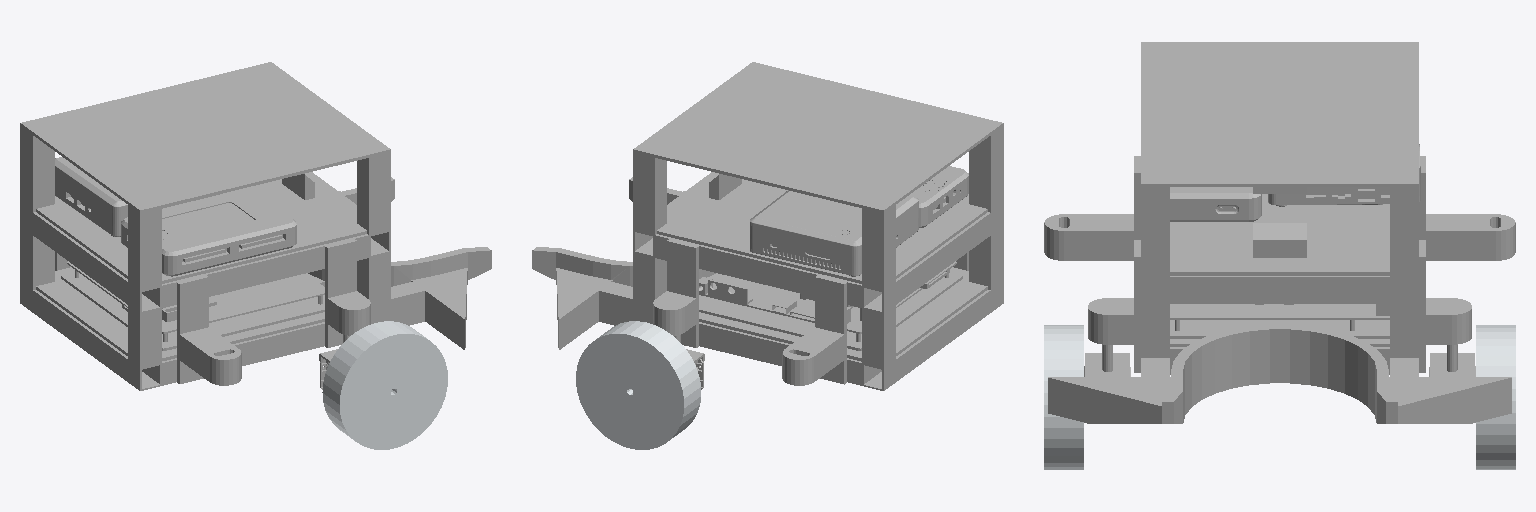
URDF robot description (lide):
<?xml version="1.0" encoding="utf-8"?>
<!-- This URDF was automatically created by SolidWorks to URDF Exporter! Originally created by [author] ([email redacted]) 
     Commit Version: 1.5.1-0-g916b5db  Build Version: 1.5.7152.31018
     For more information, please see http://wiki.ros.org/sw_urdf_exporter -->
<robot
  name="lide">
  <link
    name="base_link">
    <inertial>
      <origin
        xyz="-0.0905333829667025 0.0013857287387873 0.0489326043531981"
        rpy="0 0 0" />
      <mass
        value="3.02031254835025" />
      <inertia
        ixx="0.00719766499623467"
        ixy="-5.47577884732339E-07"
        ixz="-7.36488484972432E-06"
        iyy="0.00561397920303444"
        iyz="-3.00885497227234E-07"
        izz="0.0121022766598984" />
    </inertial>
    <visual>
      <origin
        xyz="0 0 0"
        rpy="0 0 0" />
      <geometry>
        <mesh
          filename="package://lide/meshes/base_link.STL" />
      </geometry>
      <material
        name="">
        <color
          rgba="0.752941176470588 0.752941176470588 0.752941176470588 1" />
      </material>
    </visual>
    <collision>
      <origin
        xyz="0 0 0"
        rpy="0 0 0" />
      <geometry>
        <mesh
          filename="package://lide/meshes/base_link.STL" />
      </geometry>
    </collision>
  </link>
  <link
    name="LFS">
    <inertial>
      <origin
        xyz="0.0128104268709419 0.00830943309140335 0.00297622851896686"
        rpy="0 0 0" />
      <mass
        value="0.0727928435161986" />
      <inertia
        ixx="2.20927876796312E-05"
        ixy="-1.64845302056334E-08"
        ixz="-1.56454773175217E-07"
        iyy="1.62632133784213E-05"
        iyz="2.96411876511052E-09"
        izz="1.80843397531752E-05" />
    </inertial>
    <visual>
      <origin
        xyz="0 0 0"
        rpy="0 0 0" />
      <geometry>
        <mesh
          filename="package://lide/meshes/LFS.STL" />
      </geometry>
      <material
        name="">
        <color
          rgba="0.752941176470588 0.752941176470588 0.752941176470588 1" />
      </material>
    </visual>
    <collision>
      <origin
        xyz="0 0 0"
        rpy="0 0 0" />
      <geometry>
        <mesh
          filename="package://lide/meshes/LFS.STL" />
      </geometry>
    </collision>
  </link>
  <joint
    name="LFS"
    type="fixed">
    <origin
      xyz="-0.021044 0.11715 -0.036503"
      rpy="1.5708 0 1.5708" />
    <parent
      link="base_link" />
    <child
      link="LFS" />
    <axis
      xyz="0 0 0" />
  </joint>
  <link
    name="LFW">
    <inertial>
      <origin
        xyz="-0.01775 -2.77555756156289E-17 4.25007251614318E-17"
        rpy="0 0 0" />
      <mass
        value="0.767080911081153" />
      <inertia
        ixx="0.00116426102407189"
        ixy="-8.87966691214985E-21"
        ixz="-5.07522269183661E-21"
        iyy="0.000639661580367032"
        iyz="9.48676900924816E-20"
        izz="0.000639661580367032" />
    </inertial>
    <visual>
      <origin
        xyz="0 0 0"
        rpy="0 0 0" />
      <geometry>
        <mesh
          filename="package://lide/meshes/LFW.STL" />
      </geometry>
      <material
        name="">
        <color
          rgba="0.898039215686275 0.917647058823529 0.929411764705882 1" />
      </material>
    </visual>
    <collision>
      <origin
        xyz="0 0 0"
        rpy="0 0 0" />
      <geometry>
        <mesh
          filename="package://lide/meshes/LFW.STL" />
      </geometry>
    </collision>
  </link>
  <joint
    name="LFW"
    type="continuous">
    <origin
      xyz="0.063346 -0.006798 0.015044"
      rpy="-1.6264 0 0" />
    <parent
      link="LFS" />
    <child
      link="LFW" />
    <axis
      xyz="1 0 0" />
    <limit
      effort="3.1"
      velocity="7" />
  </joint>
  <link
    name="RFS">
    <inertial>
      <origin
        xyz="0.0135671691542593 -0.00900932874707075 0.0520056318885905"
        rpy="0 0 0" />
      <mass
        value="0.0727928435161986" />
      <inertia
        ixx="2.20927876796313E-05"
        ixy="-1.64845302056307E-08"
        ixz="1.56454773175213E-07"
        iyy="1.62632133784213E-05"
        iyz="-2.96411876510605E-09"
        izz="1.80843397531752E-05" />
    </inertial>
    <visual>
      <origin
        xyz="0 0 0"
        rpy="0 0 0" />
      <geometry>
        <mesh
          filename="package://lide/meshes/RFS.STL" />
      </geometry>
      <material
        name="">
        <color
          rgba="0.752941176470588 0.752941176470588 0.752941176470588 1" />
      </material>
    </visual>
    <collision>
      <origin
        xyz="0 0 0"
        rpy="0 0 0" />
      <geometry>
        <mesh
          filename="package://lide/meshes/RFS.STL" />
      </geometry>
    </collision>
  </link>
  <joint
    name="RFS"
    type="fixed">
    <origin
      xyz="-0.070073 -0.14353 -0.019216"
      rpy="1.5708 0 1.5708" />
    <parent
      link="base_link" />
    <child
      link="RFS" />
    <axis
      xyz="0 0 0" />
  </joint>
  <link
    name="RFW">
    <inertial>
      <origin
        xyz="0.01775 -1.6653E-16 0"
        rpy="0 0 0" />
      <mass
        value="0.76708" />
      <inertia
        ixx="0.0011643"
        ixy="-4.9591E-37"
        ixz="0"
        iyy="0.00063966"
        iyz="-2.2172E-36"
        izz="0.00063966" />
    </inertial>
    <visual>
      <origin
        xyz="0 0 0"
        rpy="0 0 0" />
      <geometry>
        <mesh
          filename="package://lide/meshes/RFW.STL" />
      </geometry>
      <material
        name="">
        <color
          rgba="0.89804 0.91765 0.92941 1" />
      </material>
    </visual>
    <collision>
      <origin
        xyz="0 0 0"
        rpy="0 0 0" />
      <geometry>
        <mesh
          filename="package://lide/meshes/RFW.STL" />
      </geometry>
    </collision>
  </link>
  <joint
    name="RFW"
    type="continuous">
    <origin
      xyz="-0.036969 -0.024084 0.064073"
      rpy="0 0 0" />
    <parent
      link="RFS" />
    <child
      link="RFW" />
    <axis
      xyz="1 0 0" />
    <limit
      effort="3.1"
      velocity="7" />
  </joint>
  <link
    name="LBS">
    <inertial>
      <origin
        xyz="-4.7988E-10 -0.023473 -1.1682E-09"
        rpy="0 0 0" />
      <mass
        value="0.083536" />
      <inertia
        ixx="7.7297E-05"
        ixy="-8.6048E-13"
        ixz="1.4059E-13"
        iyy="5.1382E-05"
        iyz="-5.0656E-12"
        izz="7.7395E-05" />
    </inertial>
    <visual>
      <origin
        xyz="0 0 0"
        rpy="0 0 0" />
      <geometry>
        <mesh
          filename="package://lide/meshes/LBS.STL" />
      </geometry>
      <material
        name="">
        <color
          rgba="0.89804 0.91765 0.92941 1" />
      </material>
    </visual>
    <collision>
      <origin
        xyz="0 0 0"
        rpy="0 0 0" />
      <geometry>
        <mesh
          filename="package://lide/meshes/LBS.STL" />
      </geometry>
    </collision>
  </link>
  <joint
    name="LBS"
    type="fixed">
    <origin
      xyz="-0.169 0.16275 -0.012562"
      rpy="1.5708 0 1.5708" />
    <parent
      link="base_link" />
    <child
      link="LBS" />
    <axis
      xyz="0 0 0" />
  </joint>
  <link
    name="LBW">
    <inertial>
      <origin
        xyz="0 -1.2212E-15 0"
        rpy="0 0 0" />
      <mass
        value="0.2991" />
      <inertia
        ixx="0.00010713"
        ixy="-7.7155E-22"
        ixz="-6.5618E-22"
        iyy="0.00010983"
        iyz="-8.6323E-20"
        izz="0.00010713" />
    </inertial>
    <visual>
      <origin
        xyz="0 0 0"
        rpy="0 0 0" />
      <geometry>
        <mesh
          filename="package://lide/meshes/LBW.STL" />
      </geometry>
      <material
        name="">
        <color
          rgba="0.89804 0.91765 0.92941 1" />
      </material>
    </visual>
    <collision>
      <origin
        xyz="0 0 0"
        rpy="0 0 0" />
      <geometry>
        <mesh
          filename="package://lide/meshes/LBW.STL" />
      </geometry>
    </collision>
  </link>
  <joint
    name="LBW"
    type="continuous">
    <origin
      xyz="0 -0.055738 0"
      rpy="3.1416 0 1.5708" />
    <parent
      link="LBS" />
    <child
      link="LBW" />
    <axis
      xyz="0 1 0" />
    <limit
      lower="0"
      upper="0"
      effort="0"
      velocity="0" />
  </joint>
  <link
    name="RBS">
    <inertial>
      <origin
        xyz="-4.79882439341495E-10 -0.023473389822872 -1.16815018769145E-09"
        rpy="0 0 0" />
      <mass
        value="0.0835358720814331" />
      <inertia
        ixx="7.72968060896301E-05"
        ixy="-8.60477997828768E-13"
        ixz="1.40586682345435E-13"
        iyy="5.13820931926884E-05"
        iyz="-5.06559895258843E-12"
        izz="7.73952626484254E-05" />
    </inertial>
    <visual>
      <origin
        xyz="0 0 0"
        rpy="0 0 0" />
      <geometry>
        <mesh
          filename="package://lide/meshes/RBS.STL" />
      </geometry>
      <material
        name="">
        <color
          rgba="0.898039215686275 0.917647058823529 0.929411764705882 1" />
      </material>
    </visual>
    <collision>
      <origin
        xyz="0 0 0"
        rpy="0 0 0" />
      <geometry>
        <mesh
          filename="package://lide/meshes/RBS.STL" />
      </geometry>
    </collision>
  </link>
  <joint
    name="RBS"
    type="fixed">
    <origin
      xyz="-0.169 -0.16275 -0.012562"
      rpy="1.5708 0 1.5708" />
    <parent
      link="base_link" />
    <child
      link="RBS" />
    <axis
      xyz="0 0 0" />
  </joint>
  <link
    name="RBW">
    <inertial>
      <origin
        xyz="0 -5.5511E-16 0"
        rpy="0 0 0" />
      <mass
        value="0.2991" />
      <inertia
        ixx="0.00010713"
        ixy="2.9572E-22"
        ixz="-7.8377E-22"
        iyy="0.00010983"
        iyz="-8.634E-20"
        izz="0.00010713" />
    </inertial>
    <visual>
      <origin
        xyz="0 0 0"
        rpy="0 0 0" />
      <geometry>
        <mesh
          filename="package://lide/meshes/RBW.STL" />
      </geometry>
      <material
        name="">
        <color
          rgba="0.89804 0.91765 0.92941 1" />
      </material>
    </visual>
    <collision>
      <origin
        xyz="0 0 0"
        rpy="0 0 0" />
      <geometry>
        <mesh
          filename="package://lide/meshes/RBW.STL" />
      </geometry>
    </collision>
  </link>
  <joint
    name="RBW"
    type="continuous">
    <origin
      xyz="0 -0.055738 0"
      rpy="0 0 -1.5708" />
    <parent
      link="RBS" />
    <child
      link="RBW" />
    <axis
      xyz="0 1 0" />
    <limit
      lower="0"
      upper="0"
      effort="0"
      velocity="0" />
  </joint>
  <link
    name="fcam">
    <inertial>
      <origin
        xyz="-0.011554 -2.6443E-06 0.0012903"
        rpy="0 0 0" />
      <mass
        value="0.043612" />
      <inertia
        ixx="2.3571E-05"
        ixy="-1.0184E-09"
        ixz="2.1759E-08"
        iyy="4.2948E-06"
        iyz="-8.8502E-10"
        izz="2.2106E-05" />
    </inertial>
    <visual>
      <origin
        xyz="0 0 0"
        rpy="0 0 0" />
      <geometry>
        <mesh
          filename="package://lide/meshes/fcam.STL" />
      </geometry>
      <material
        name="">
        <color
          rgba="0.79216 0.81961 0.93333 1" />
      </material>
    </visual>
    <collision>
      <origin
        xyz="0 0 0"
        rpy="0 0 0" />
      <geometry>
        <mesh
          filename="package://lide/meshes/fcam.STL" />
      </geometry>
    </collision>
  </link>
  <joint
    name="fcam"
    type="fixed">
    <origin
      xyz="0.029118 0 0.12982"
      rpy="0 0.2618 0" />
    <parent
      link="base_link" />
    <child
      link="fcam" />
    <axis
      xyz="0 0 0" />
  </joint>
  <link
    name="bcam">
    <inertial>
      <origin
        xyz="-0.020103 -2.6435E-06 -0.0072587"
        rpy="0 0 0" />
      <mass
        value="0.043612" />
      <inertia
        ixx="2.3571E-05"
        ixy="-1.0183E-09"
        ixz="2.1758E-08"
        iyy="4.2948E-06"
        iyz="-8.8548E-10"
        izz="2.2106E-05" />
    </inertial>
    <visual>
      <origin
        xyz="0 0 0"
        rpy="0 0 0" />
      <geometry>
        <mesh
          filename="package://lide/meshes/bcam.STL" />
      </geometry>
      <material
        name="">
        <color
          rgba="0.79216 0.81961 0.93333 1" />
      </material>
    </visual>
    <collision>
      <origin
        xyz="0 0 0"
        rpy="0 0 0" />
      <geometry>
        <mesh
          filename="package://lide/meshes/bcam.STL" />
      </geometry>
    </collision>
  </link>
  <joint
    name="bcam"
    type="fixed">
    <origin
      xyz="0.033 0 0.091232"
      rpy="0 0.7854 0" />
    <parent
      link="base_link" />
    <child
      link="bcam" />
    <axis
      xyz="0 0 0" />
  </joint>
  <link
    name="Lidar">
    <inertial>
      <origin
        xyz="0.013523 0.00046196 -0.028765"
        rpy="0 0 0" />
      <mass
        value="0.073085" />
      <inertia
        ixx="1.9581E-05"
        ixy="-1.0393E-07"
        ixz="-4.2839E-07"
        iyy="2.4125E-05"
        iyz="9.4271E-09"
        izz="4.1418E-05" />
    </inertial>
    <visual>
      <origin
        xyz="0 0 0"
        rpy="0 0 0" />
      <geometry>
        <mesh
          filename="package://lide/meshes/Lidar.STL" />
      </geometry>
      <material
        name="">
        <color
          rgba="0.79216 0.81961 0.93333 1" />
      </material>
    </visual>
    <collision>
      <origin
        xyz="0 0 0"
        rpy="0 0 0" />
      <geometry>
        <mesh
          filename="package://lide/meshes/Lidar.STL" />
      </geometry>
    </collision>
  </link>
  <joint
    name="Lidar"
    type="fixed">
    <origin
      xyz="-0.17158 -0.00099405 0.2065"
      rpy="0 0 0" />
    <parent
      link="base_link" />
    <child
      link="Lidar" />
    <axis
      xyz="0 0 0" />
  </joint>
  <link
    name="imu_link">
    <inertial>
      <origin
        xyz="0 0 0"
        rpy="0 0 0" />
      <mass
        value="0" />
      <inertia
        ixx="0"
        ixy="0"
        ixz="0"
        iyy="0"
        iyz="0"
        izz="0" />
    </inertial>
    <visual>
      <origin
        xyz="0 0 0"
        rpy="0 0 0" />
      <geometry>
        <mesh
          filename="package://lide/meshes/imu_link.STL" />
      </geometry>
      <material
        name="">
        <color
          rgba="1 1 1 1" />
      </material>
    </visual>
    <collision>
      <origin
        xyz="0 0 0"
        rpy="0 0 0" />
      <geometry>
        <mesh
          filename="package://lide/meshes/imu_link.STL" />
      </geometry>
    </collision>
  </link>
  <joint
    name="imu_link"
    type="fixed">
    <origin
      xyz="-0.007625 0 0.155"
      rpy="0 0 0" />
    <parent
      link="base_link" />
    <child
      link="imu_link" />
    <axis
      xyz="0 0 0" />
  </joint>
</robot>

--- Facts derived from the render (not from the file) ---
The picture shows the robot from 3 angles, left to right: view 1: azimuth 30°, elevation 25°; view 2: azimuth 150°, elevation 25°; view 3: azimuth 270°, elevation 25°; orthographic projection.
Model lide with 13 links and 12 joints (4 continuous, 8 fixed), rooted at base_link, posed every joint at zero.
Visible links, largest first — view 1: base_link, RFW; view 2: base_link, LFW; view 3: base_link, LFW, RFW, LFS, RFS.
Link boxes in pixels (x1,y1,x2,y2): base_link: [20, 62, 491, 390]; RFW: [322, 321, 447, 449]; base_link: [532, 62, 1003, 390]; LFW: [576, 321, 700, 449]; base_link: [1044, 42, 1515, 423]; LFW: [1476, 325, 1515, 469]; RFW: [1044, 325, 1083, 469]; LFS: [1429, 301, 1475, 376]; RFS: [1084, 301, 1130, 376].
Bounding box of the posed robot: 0.365 × 0.3555 × 0.2513 m (x, y, z).
Meshes: 13 distinct files referenced, 5 mesh visuals loaded (5 binary STL); not drawn: 8 (reference not matched to a file when rendering).